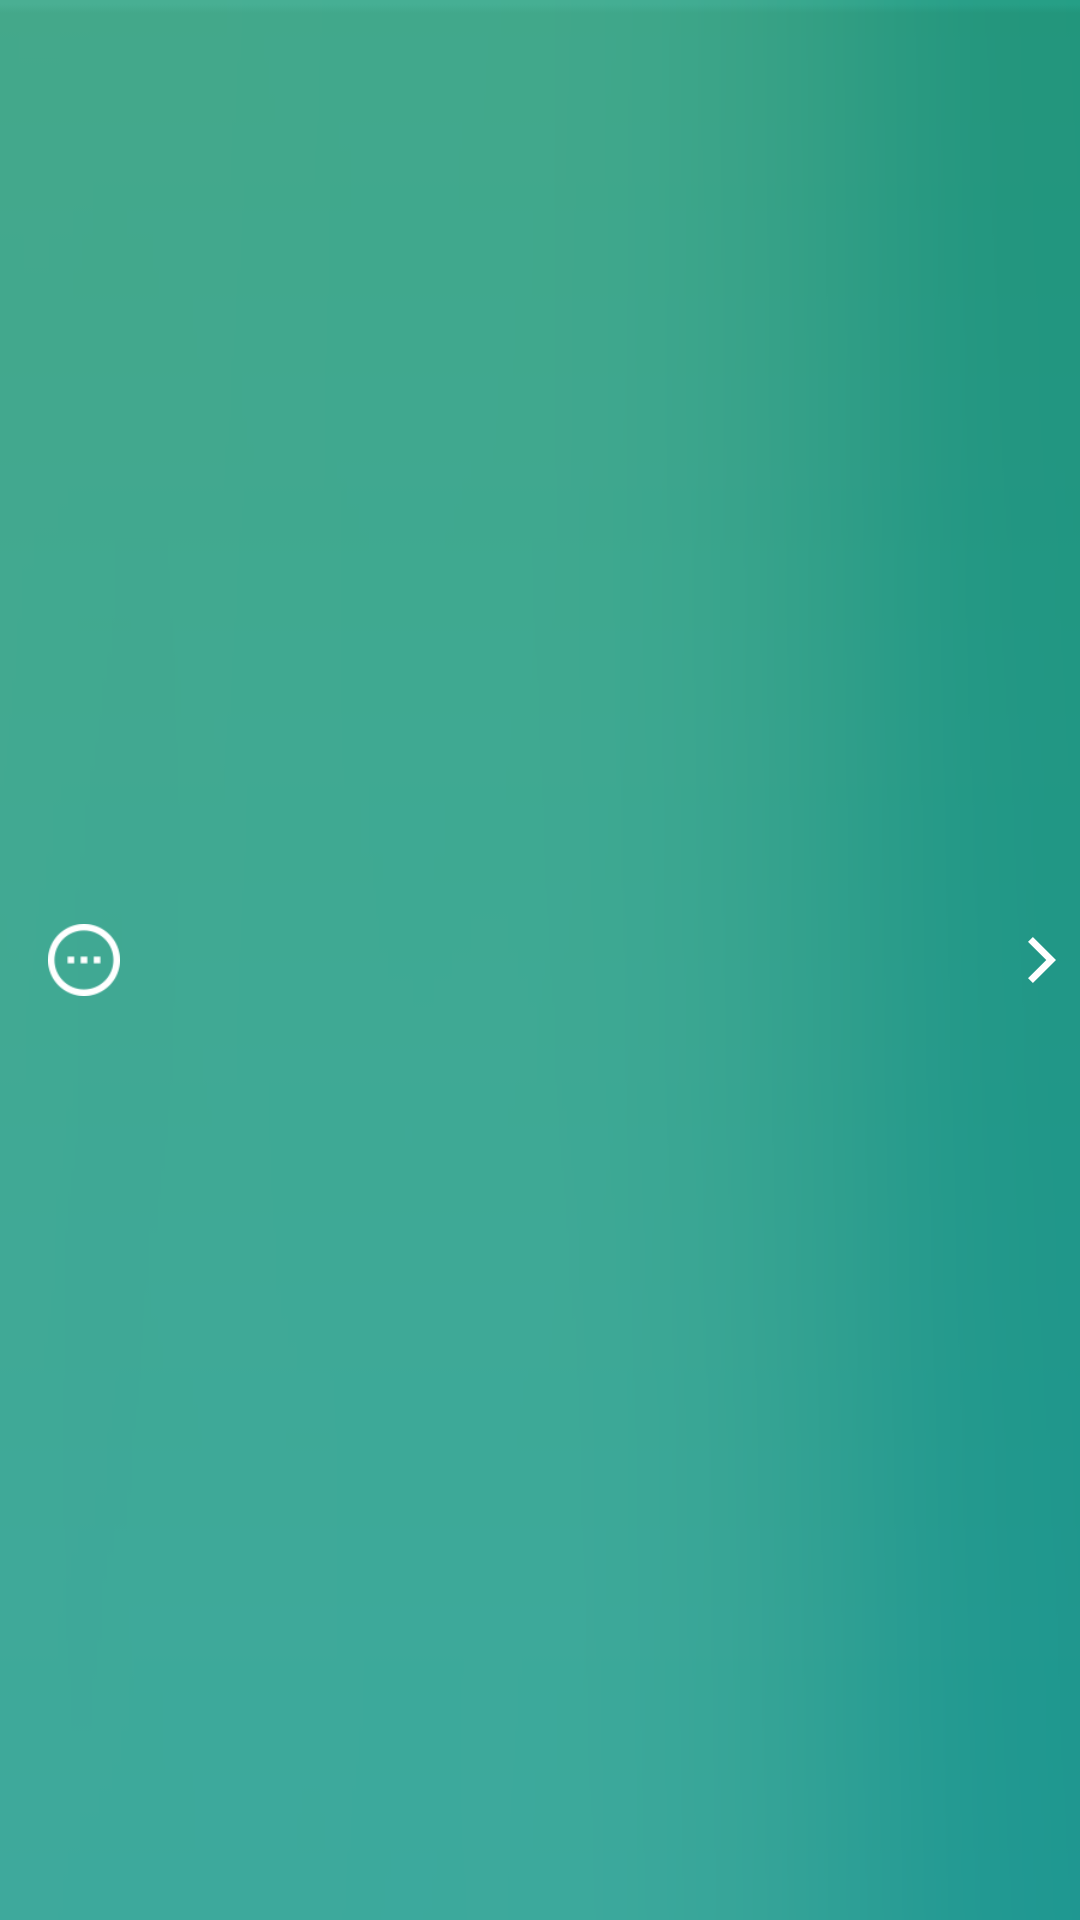

Where to tap for icons on this 1080 × 1920 app screen, as [x,y]:
arrow right: [1042,960]
info pannel more: [84,960]
